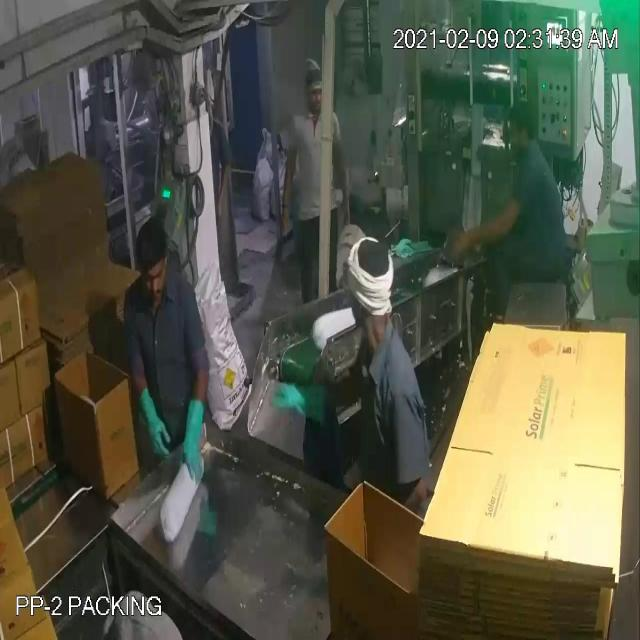gloves: (168, 377, 218, 500), (122, 370, 176, 471), (264, 370, 344, 437)
no-gloves: (445, 174, 529, 270), (268, 130, 304, 252)
